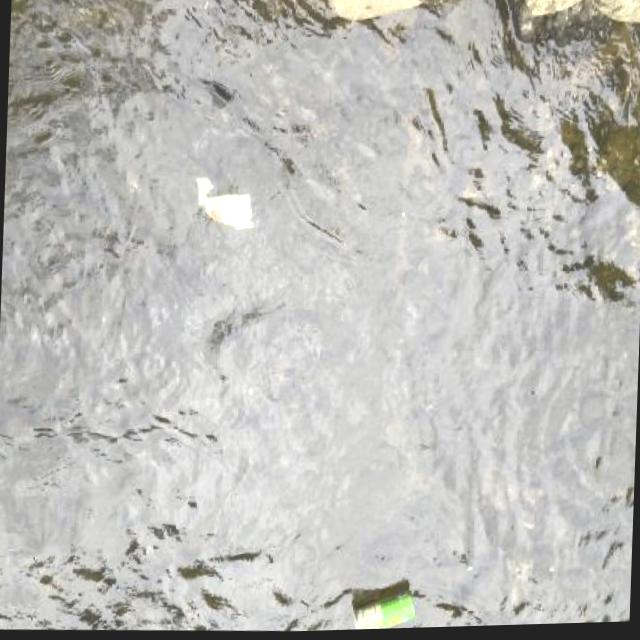Can-Metal: (344, 582, 423, 632)
Plastic: (186, 166, 260, 241)
